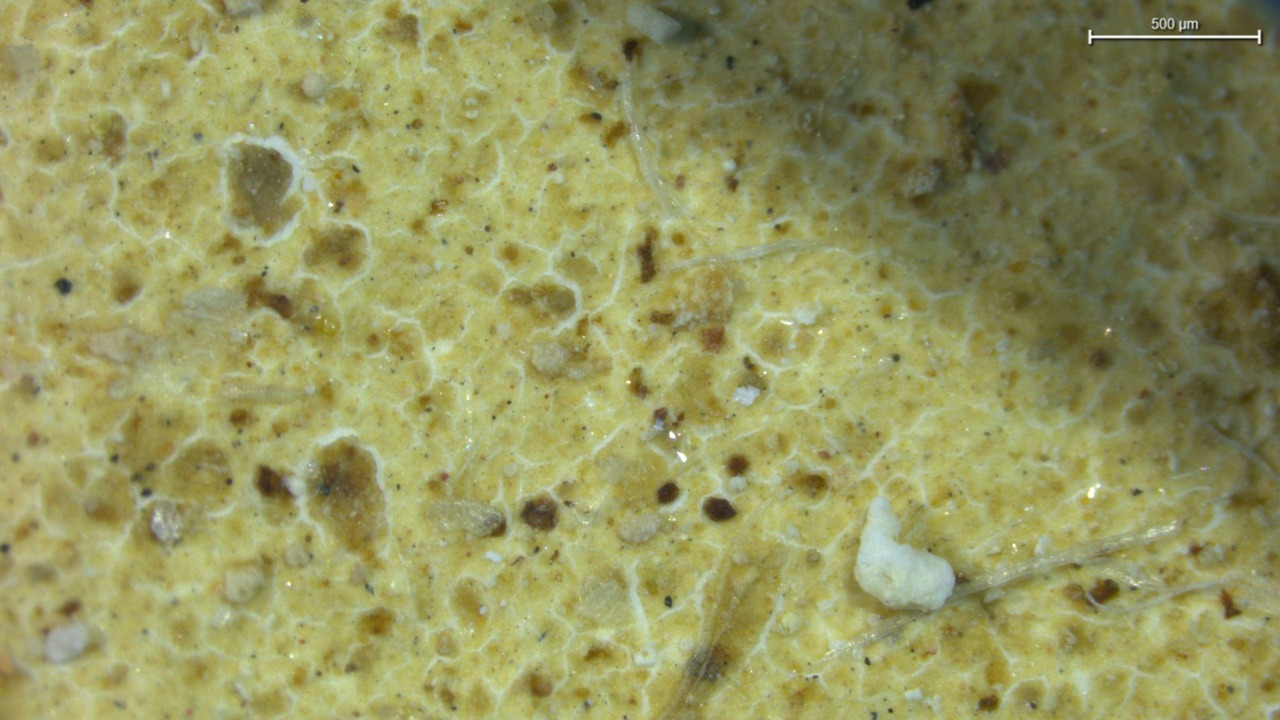microplastic_fragment: (854, 497, 955, 610), (626, 5, 681, 43)
